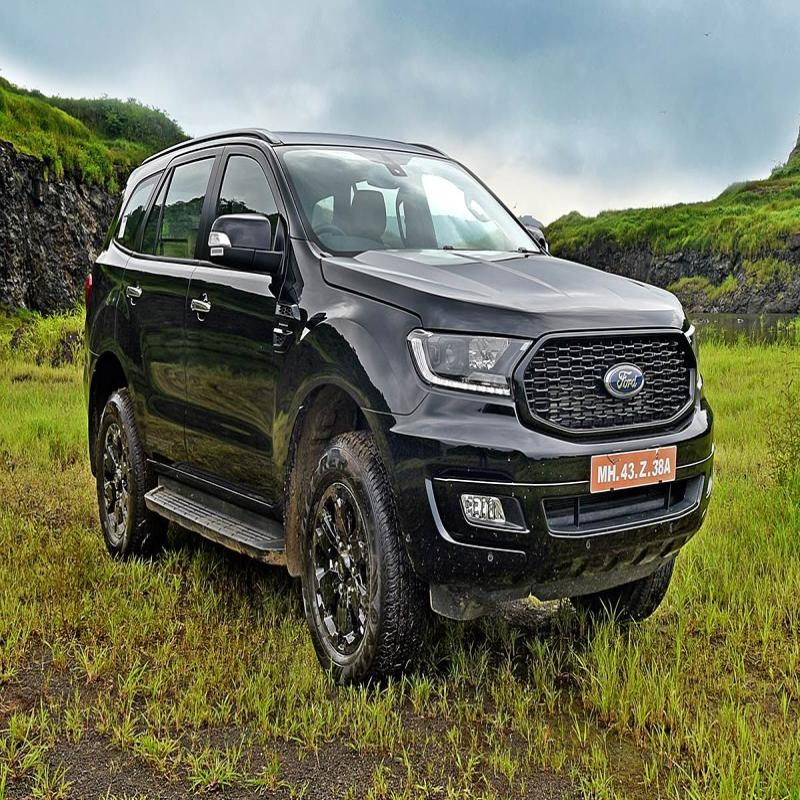car: (77, 119, 731, 662)
